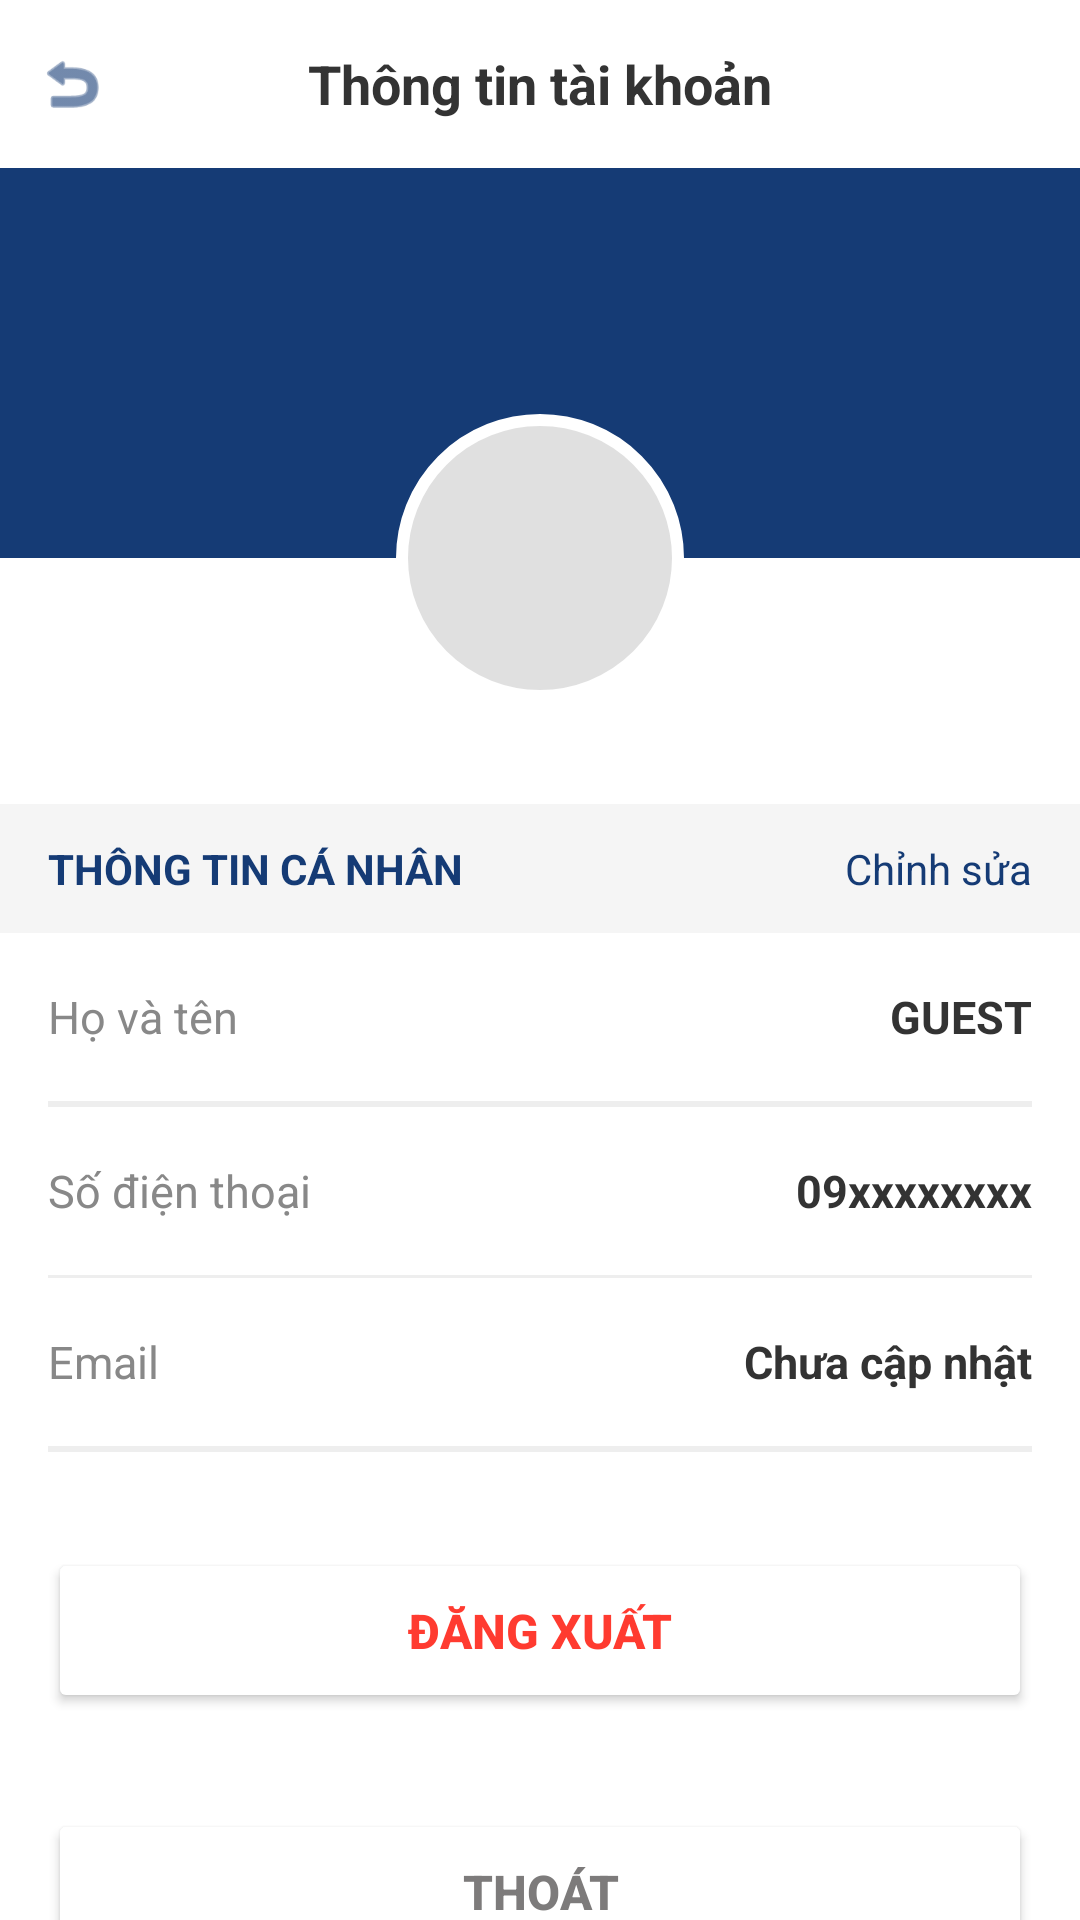

Named icons in this screenshot (1080 x 1920) and their bounding boxes, (x1, y1, x2, y2):
revert: (47, 61, 99, 108)
